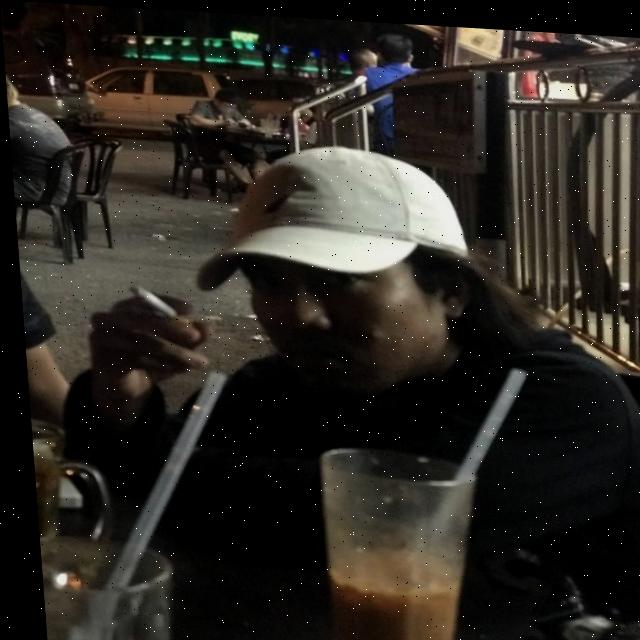cigarette: (124, 283, 184, 322)
